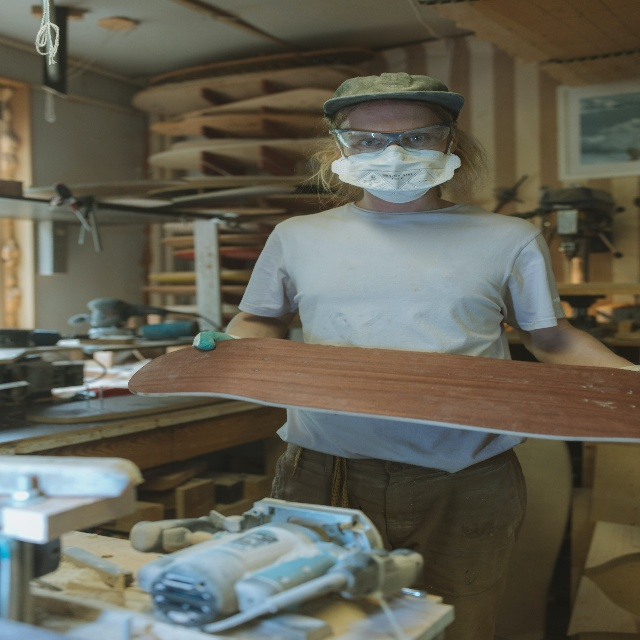Gafas: (328, 120, 459, 157)
Mascara: (330, 129, 462, 205)
